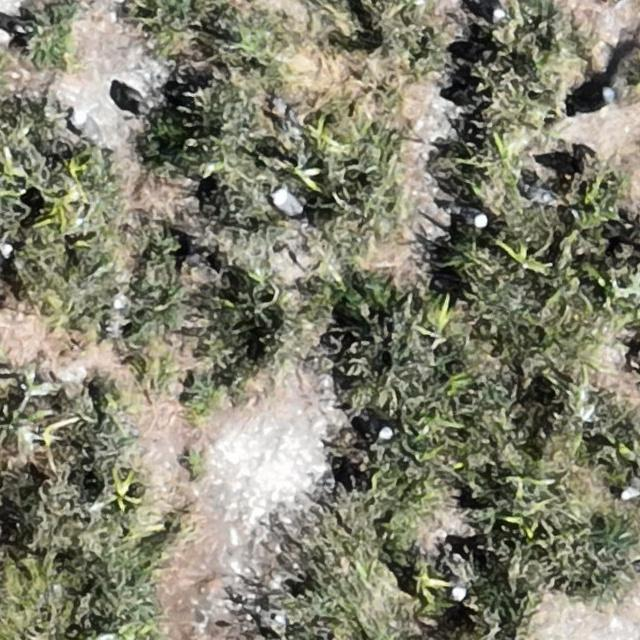umineko: (579, 89, 614, 112), (468, 2, 508, 22), (360, 414, 392, 438), (272, 189, 299, 217), (456, 208, 488, 228), (622, 480, 640, 499), (0, 240, 11, 262)
